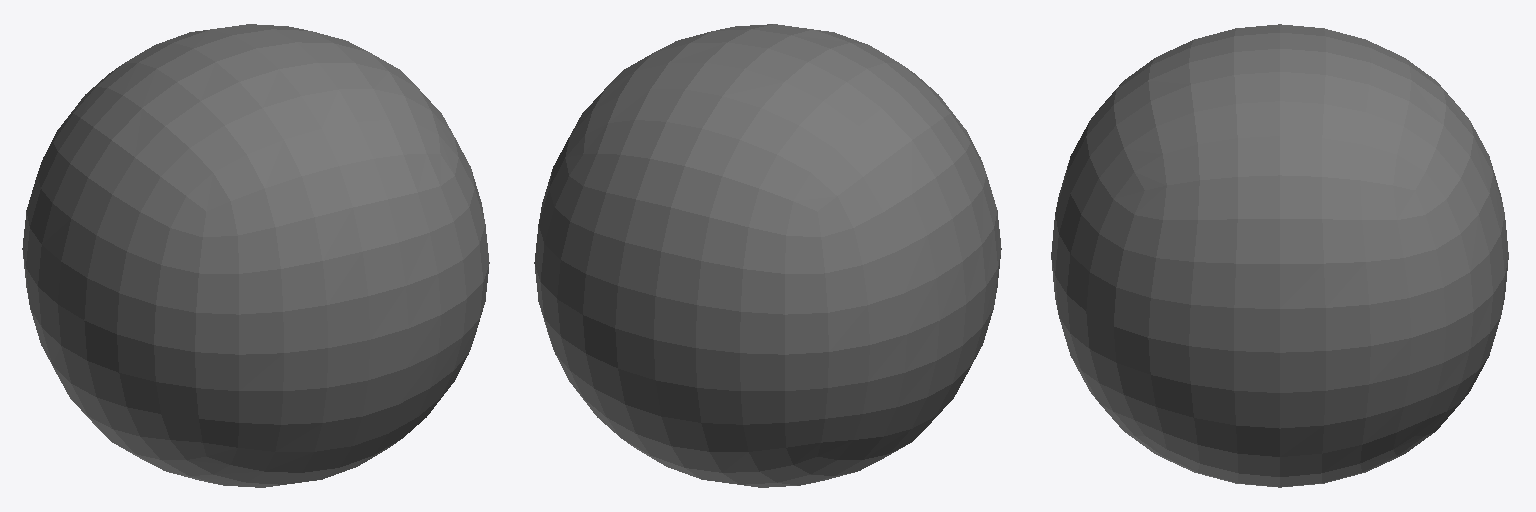
The model's file is skybox.obj.
3 renders of one model, left to right at view 1: azimuth 30°, elevation 25°; view 2: azimuth 150°, elevation 25°; view 3: azimuth 270°, elevation 25°, orthographic.
Bounding box in the file's own units: 49.69 × 49.69 × 49.69.